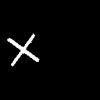single_crochet: (8, 34, 38, 65)
